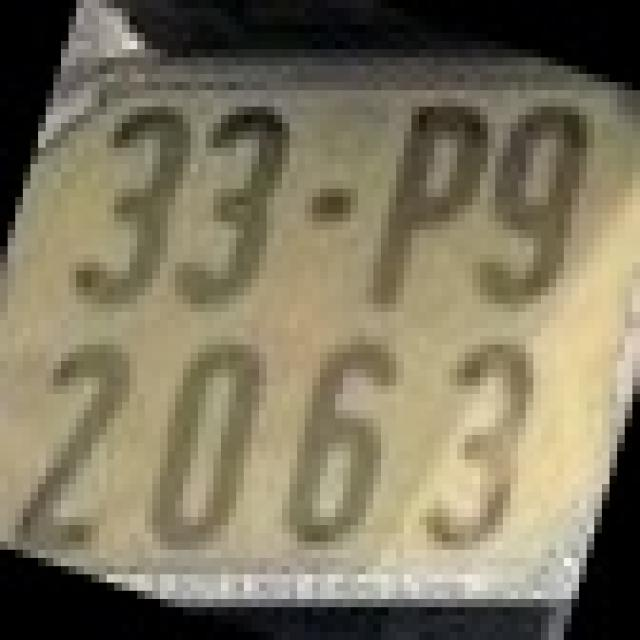0: (144, 336, 266, 550)
2: (8, 336, 130, 542)
3: (419, 336, 541, 550), (68, 98, 190, 312), (175, 98, 290, 312)
6: (282, 336, 404, 550)
9: (480, 98, 587, 312)
P: (366, 90, 488, 312)
